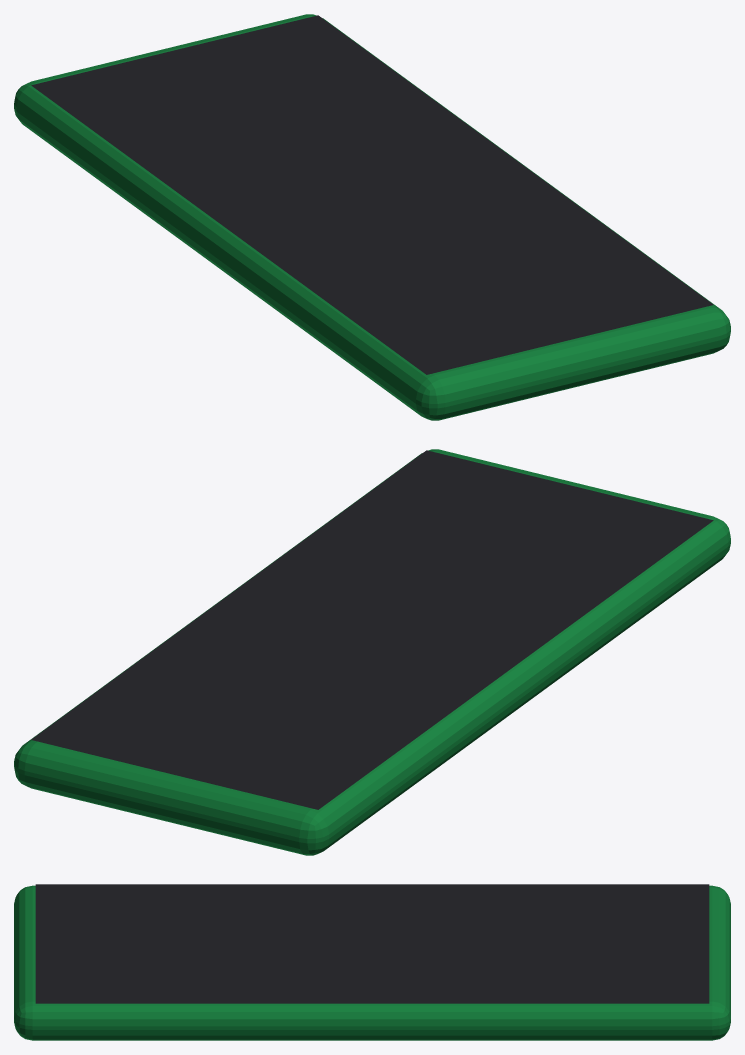
Rendered from oneplus-nord-ce-model-258-flagship-2022.glb.
3 views of the same model, one above another, from view 1: azimuth 30°, elevation 25°; view 2: azimuth 150°, elevation 25°; view 3: azimuth 270°, elevation 25° (orthographic). The views are drawn at different scales.
Visible parts, largest first — view 1: Phone_Screen, Phone_Body; view 2: Phone_Screen, Phone_Body; view 3: Phone_Screen, Phone_Body.
Part boxes in pixels (left/top/right/bottom): Phone_Screen: left=31, top=15, right=713, bottom=374; Phone_Body: left=14, top=14, right=730, bottom=420; Phone_Screen: left=31, top=450, right=713, bottom=809; Phone_Body: left=14, top=449, right=730, bottom=855; Phone_Screen: left=35, top=884, right=709, bottom=1003; Phone_Body: left=14, top=885, right=730, bottom=1040.
Bounding box in the file's own units: 0.0724 × 0.0098 × 0.169.
